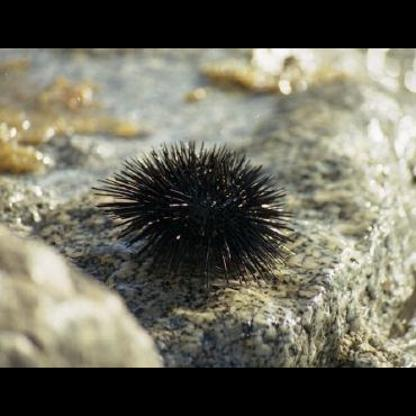urchin: (100, 145, 305, 276)
